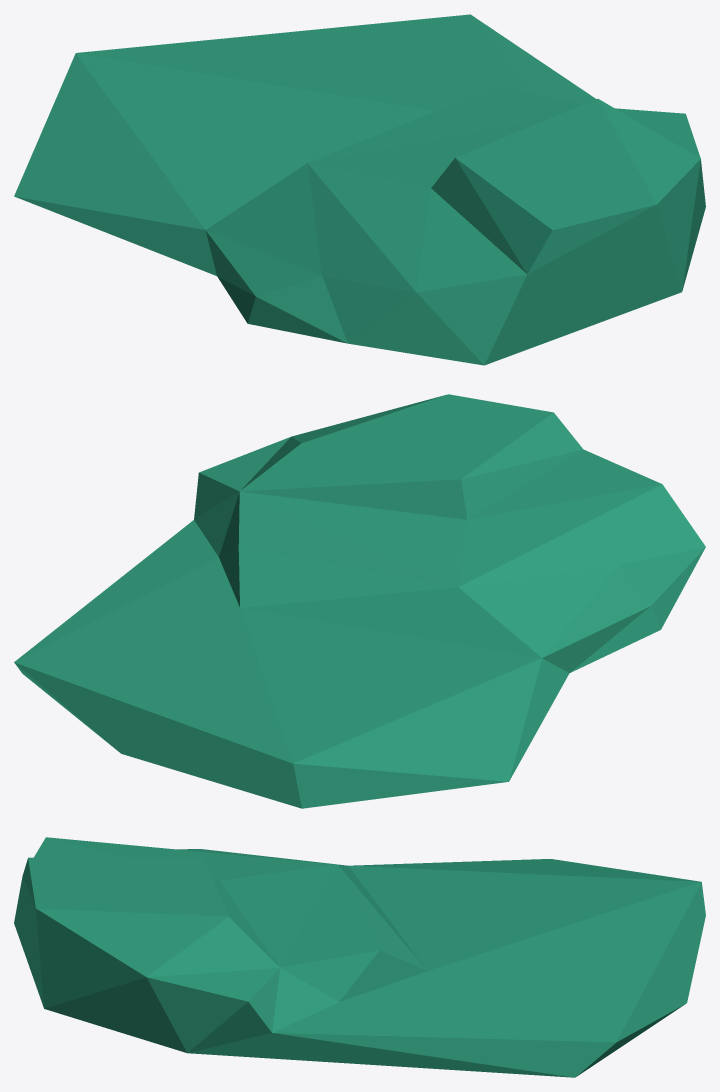
Rendered from SM_B_Dirtpile_03.fbx.
3 renders of one model, top to bottom at view 1: azimuth 30°, elevation 25°; view 2: azimuth 150°, elevation 25°; view 3: azimuth 270°, elevation 25°, orthographic. The views are drawn at different scales.
Visible parts, largest first — view 1: SM_B_Dirtpile_03; view 2: SM_B_Dirtpile_03; view 3: SM_B_Dirtpile_03.
Boxes of the visible parts, x1,y1,x2,y2 form: SM_B_Dirtpile_03: (14, 14, 705, 365); SM_B_Dirtpile_03: (14, 394, 705, 808); SM_B_Dirtpile_03: (14, 837, 705, 1077).
Size of the model in its own units: 548 by 136 by 726.
